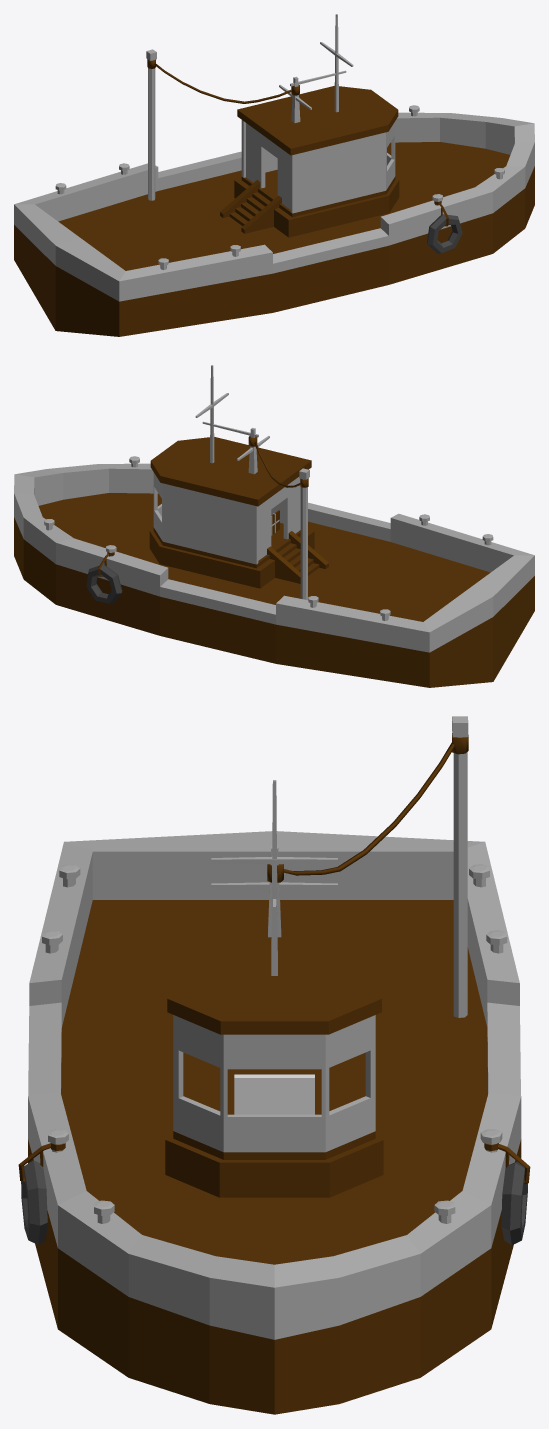
The model's file is ShipBogdan.fbx.
3 views of the same model, one above another, from view 1: azimuth 30°, elevation 25°; view 2: azimuth 150°, elevation 25°; view 3: azimuth 270°, elevation 25° (orthographic). The views are drawn at different scales.
Visible parts, largest first — view 1: Ship, CaptainsCabin; view 2: Ship, CaptainsCabin; view 3: Ship, CaptainsCabin.
Part boxes in pixels (box(x1,y1,x2,y2)): Ship: box(14, 105, 534, 336); CaptainsCabin: box(146, 14, 399, 237); Ship: box(14, 456, 534, 687); CaptainsCabin: box(149, 365, 328, 599); Ship: box(18, 831, 530, 1414); CaptainsCabin: box(165, 716, 468, 1197).
Size of the model in its own units: 2738 by 1394 by 1266.
